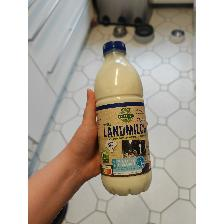Milch: (92, 40, 154, 196)
